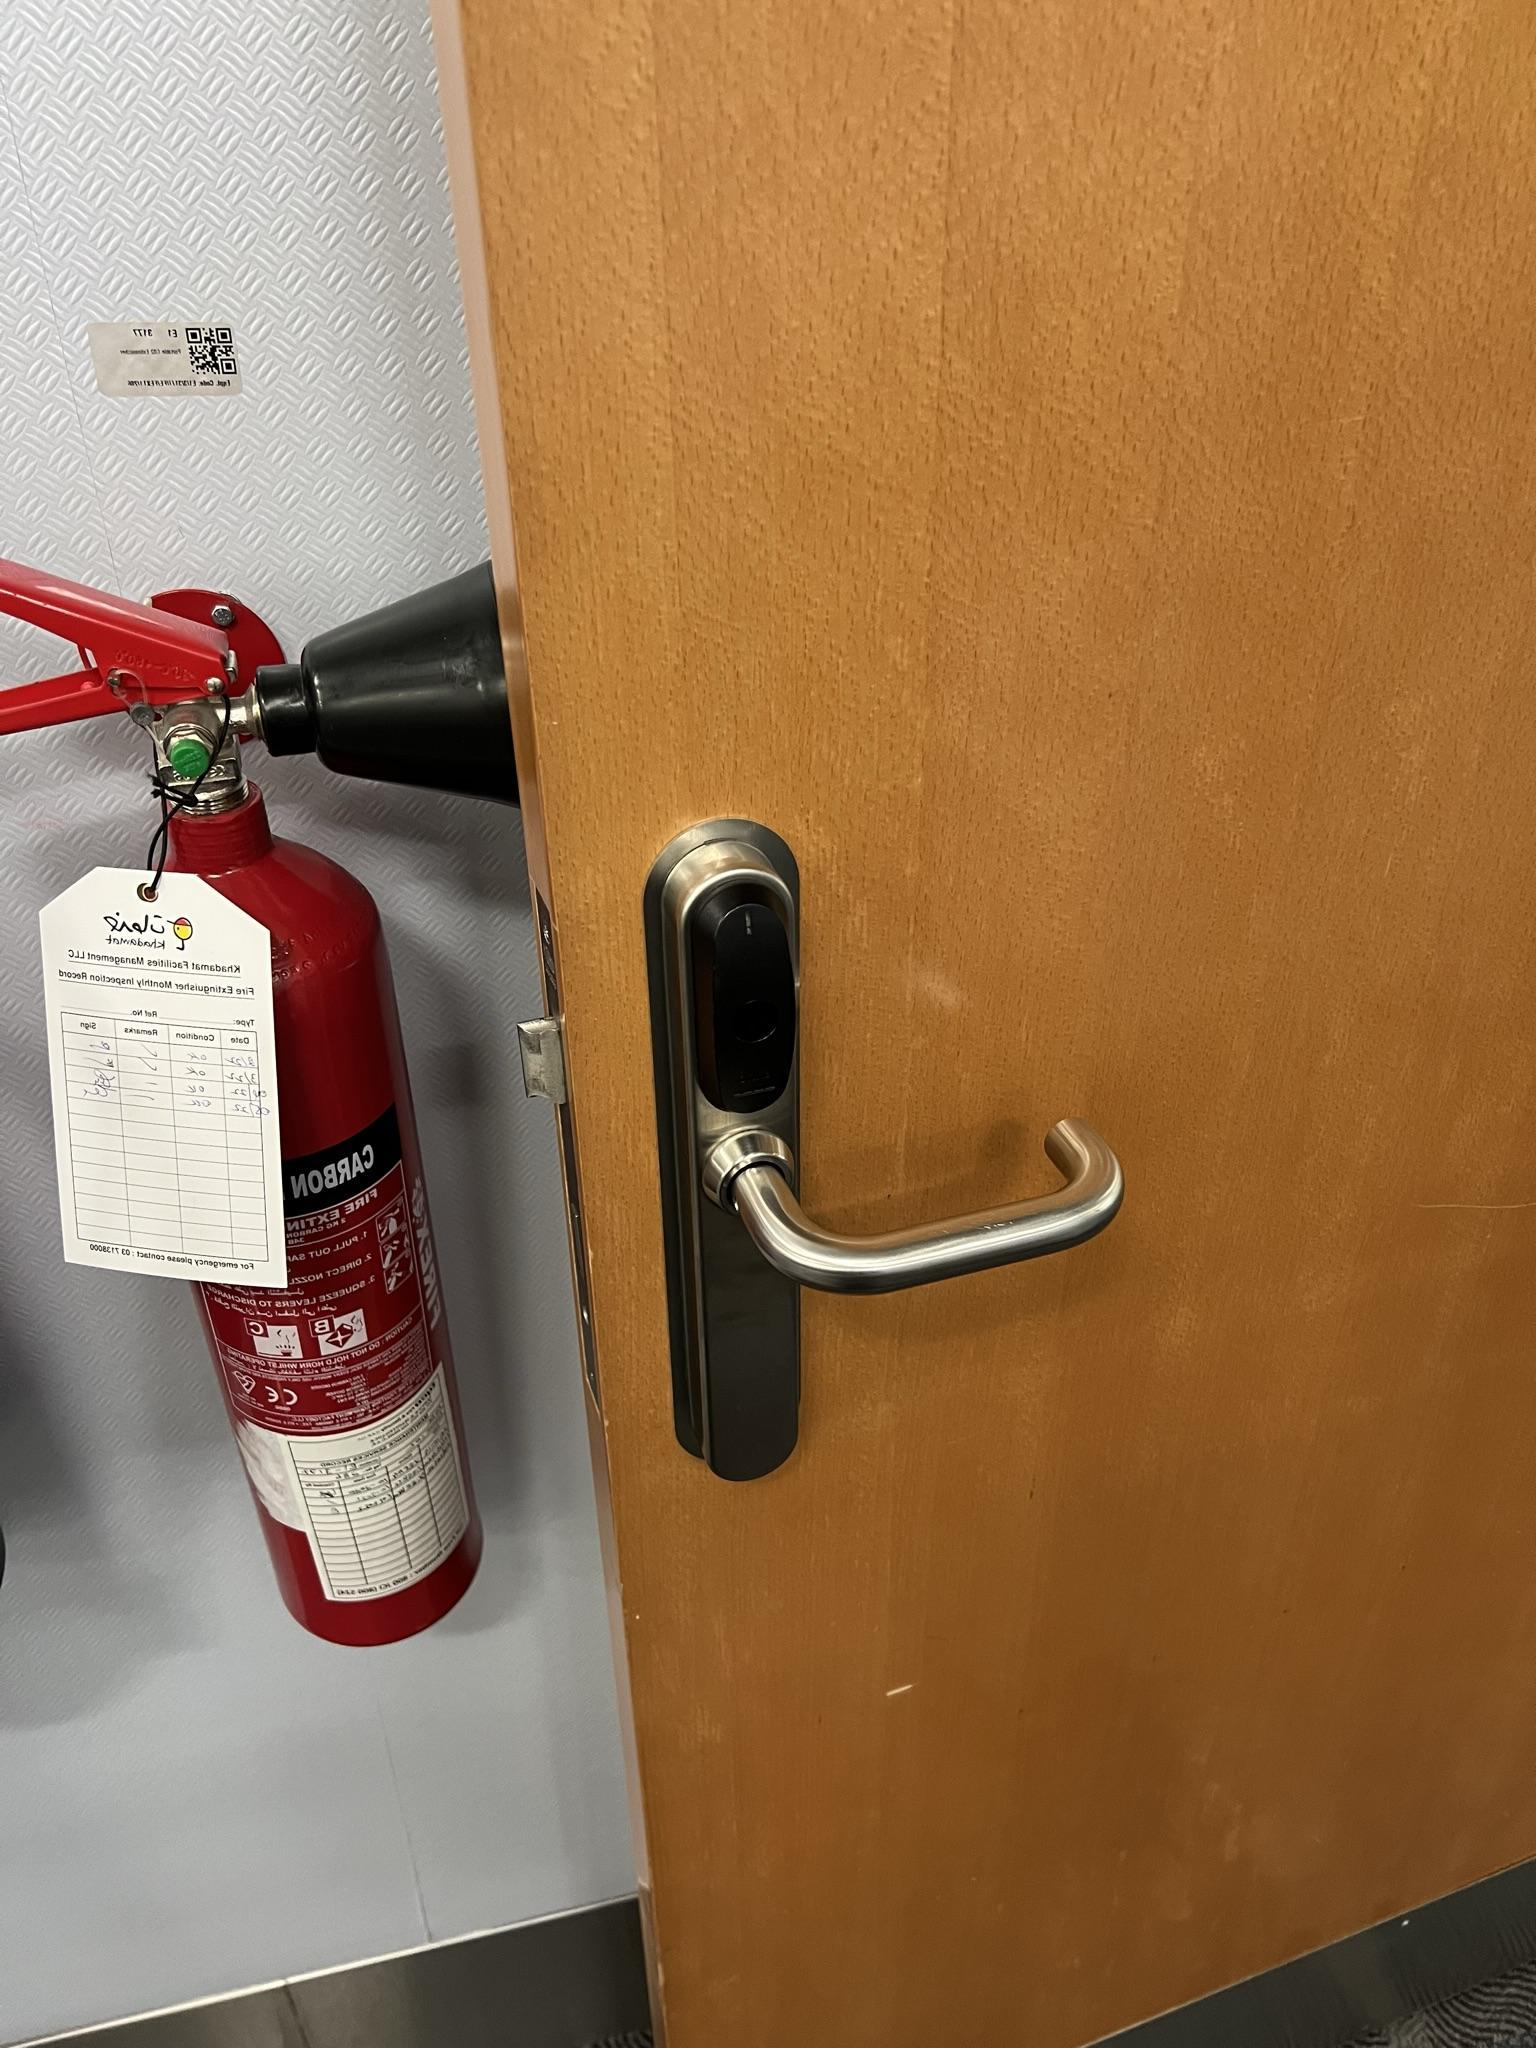door: (563, 6, 1530, 2048)
handle: (647, 803, 1126, 1485)
